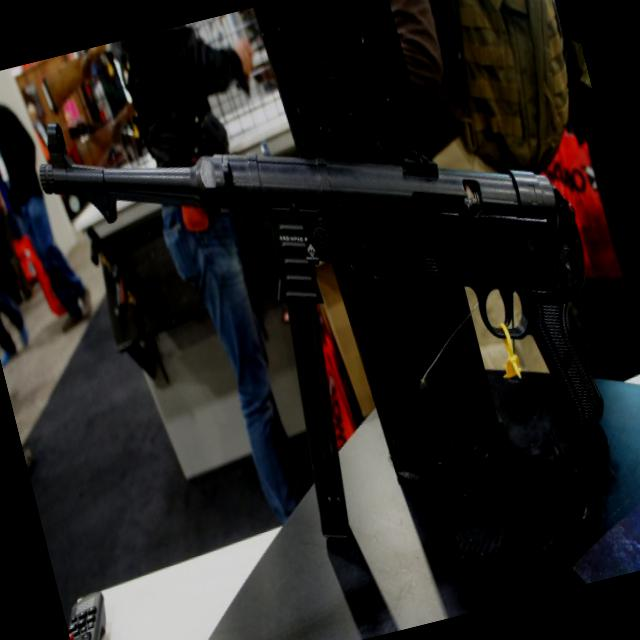handgun: (28, 25, 639, 619)
